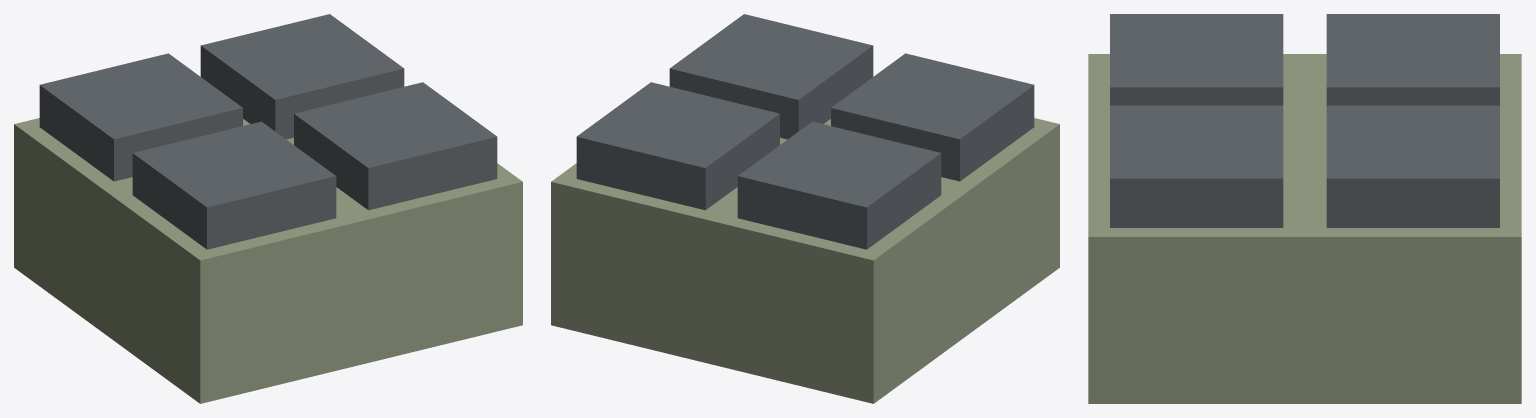
File: camion.glb
3 renders of one model, left to right at view 1: azimuth 30°, elevation 25°; view 2: azimuth 150°, elevation 25°; view 3: azimuth 270°, elevation 25°, orthographic. The views are drawn at different scales.
Parts seen in each view (by area): view 1: camion; view 2: camion; view 3: camion.
Boxes of the visible parts, x1,y1,x2,y2 form: camion: [14, 14, 522, 403]; camion: [551, 14, 1059, 403]; camion: [1088, 14, 1521, 403].
Size of the model in its own units: 4 by 2.2 by 4.
